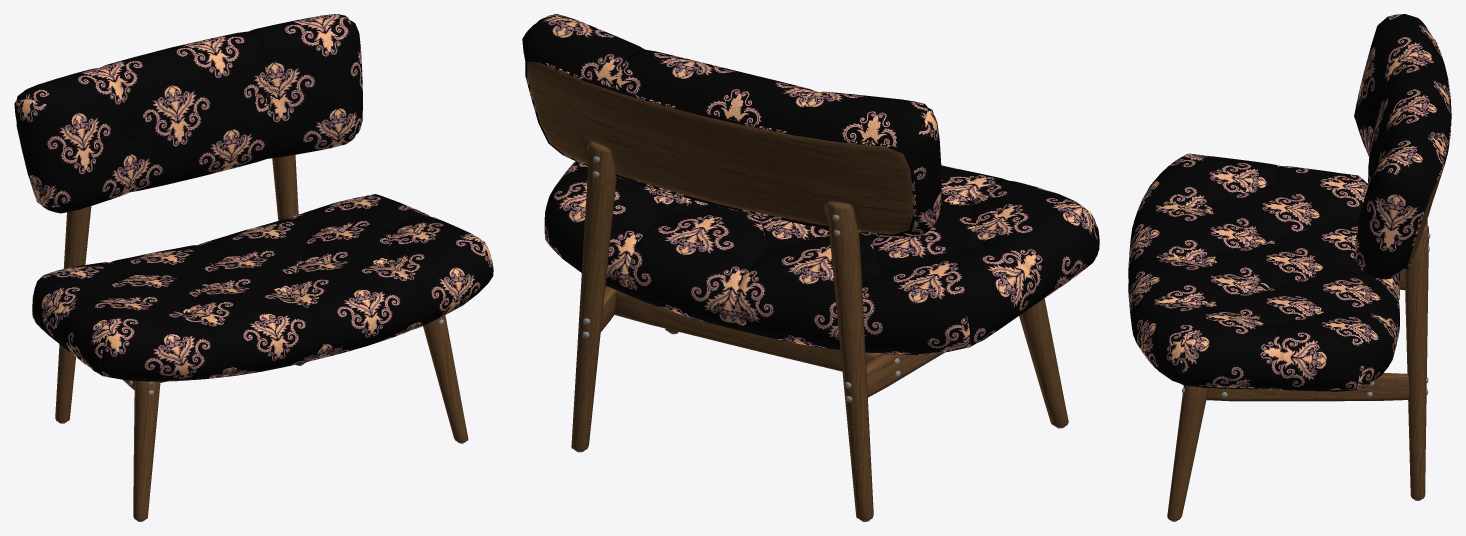
File: f_ChairDamaskPurplegold.glb
3 renders of one model, left to right at view 1: azimuth 30°, elevation 25°; view 2: azimuth 150°, elevation 25°; view 3: azimuth 270°, elevation 25°, orthographic. The views are drawn at different scales.
Visible parts, largest first — view 1: oval-tufted-chair_seat-fabric, oval-tufted-chair_back-fabric, oval-tufted-chair_legs-frame; view 2: oval-tufted-chair_seat-fabric, oval-tufted-chair_back-panel, oval-tufted-chair_legs-frame, oval-tufted-chair_back-fabric, oval-tufted-chair_back-welt; view 3: oval-tufted-chair_seat-fabric, oval-tufted-chair_back-fabric, oval-tufted-chair_legs-frame, oval-tufted-chair_back-welt, oval-tufted-chair_back-panel.
Part boxes in pixels (bbox=[...]): oval-tufted-chair_seat-fabric: bbox=[32, 194, 493, 380]; oval-tufted-chair_back-fabric: bbox=[14, 14, 362, 213]; oval-tufted-chair_legs-frame: bbox=[55, 154, 468, 520]; oval-tufted-chair_seat-fabric: bbox=[544, 161, 1099, 354]; oval-tufted-chair_back-panel: bbox=[527, 62, 913, 234]; oval-tufted-chair_legs-frame: bbox=[571, 142, 1068, 520]; oval-tufted-chair_back-fabric: bbox=[522, 14, 941, 237]; oval-tufted-chair_back-welt: bbox=[525, 58, 916, 236]; oval-tufted-chair_seat-fabric: bbox=[1128, 153, 1399, 390]; oval-tufted-chair_back-fabric: bbox=[1354, 14, 1450, 279]; oval-tufted-chair_legs-frame: bbox=[1167, 219, 1428, 520]; oval-tufted-chair_back-welt: bbox=[1404, 39, 1451, 268]; oval-tufted-chair_back-panel: bbox=[1407, 170, 1442, 266].
Bounding box in the file's own units: 0.8286 × 0.6873 × 0.5718.
4 materials, 3 textured.
